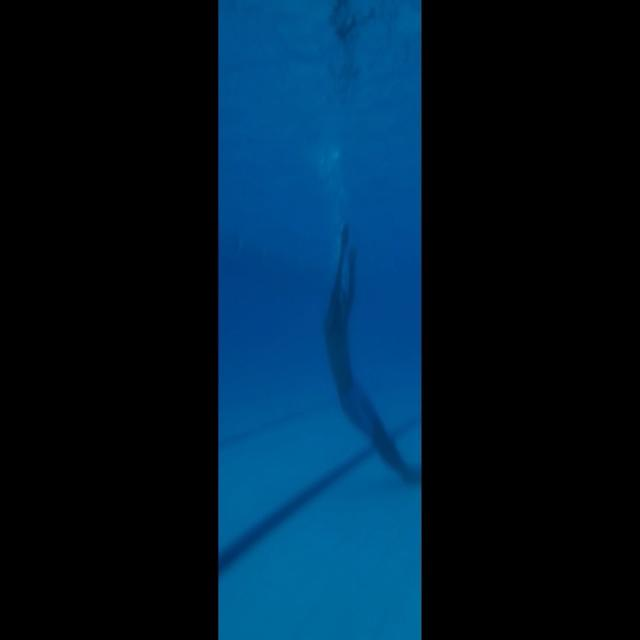drowning: (312, 201, 419, 519)
